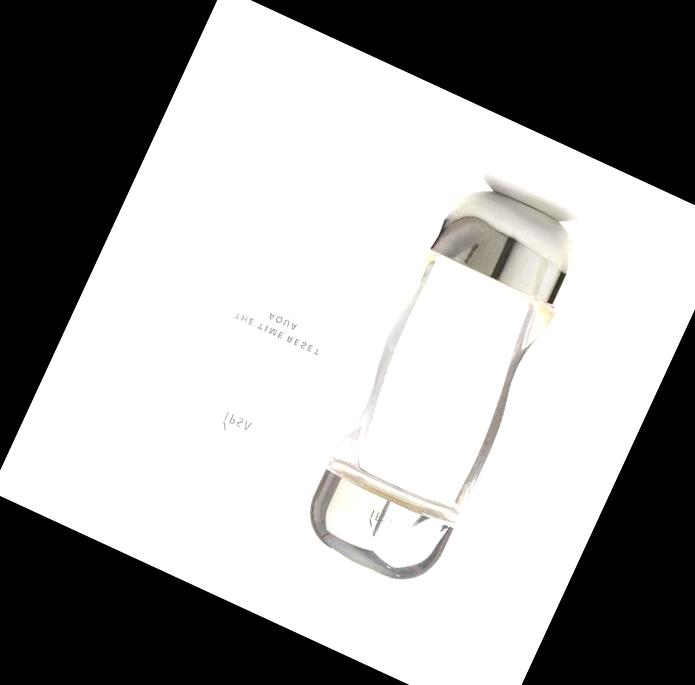cosmetic: (295, 172, 597, 597)
